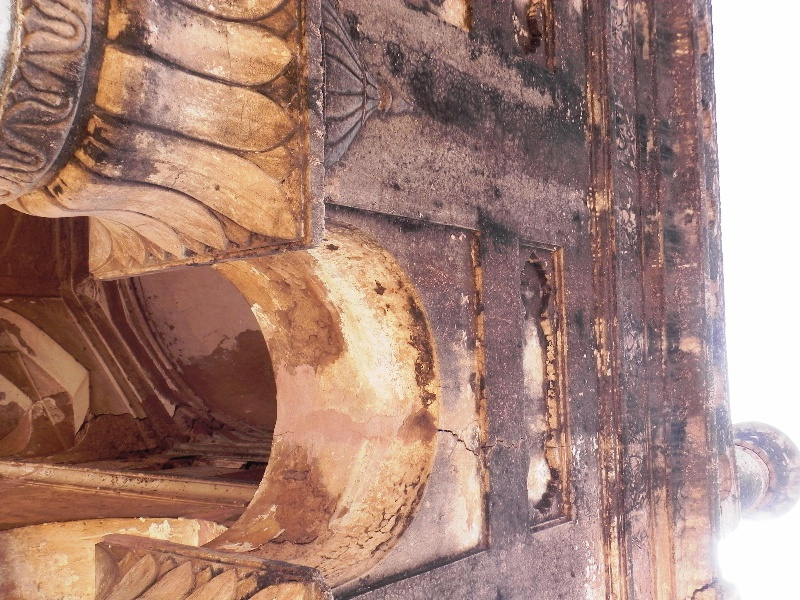Crack: (431, 423, 487, 459), (689, 582, 716, 598)
